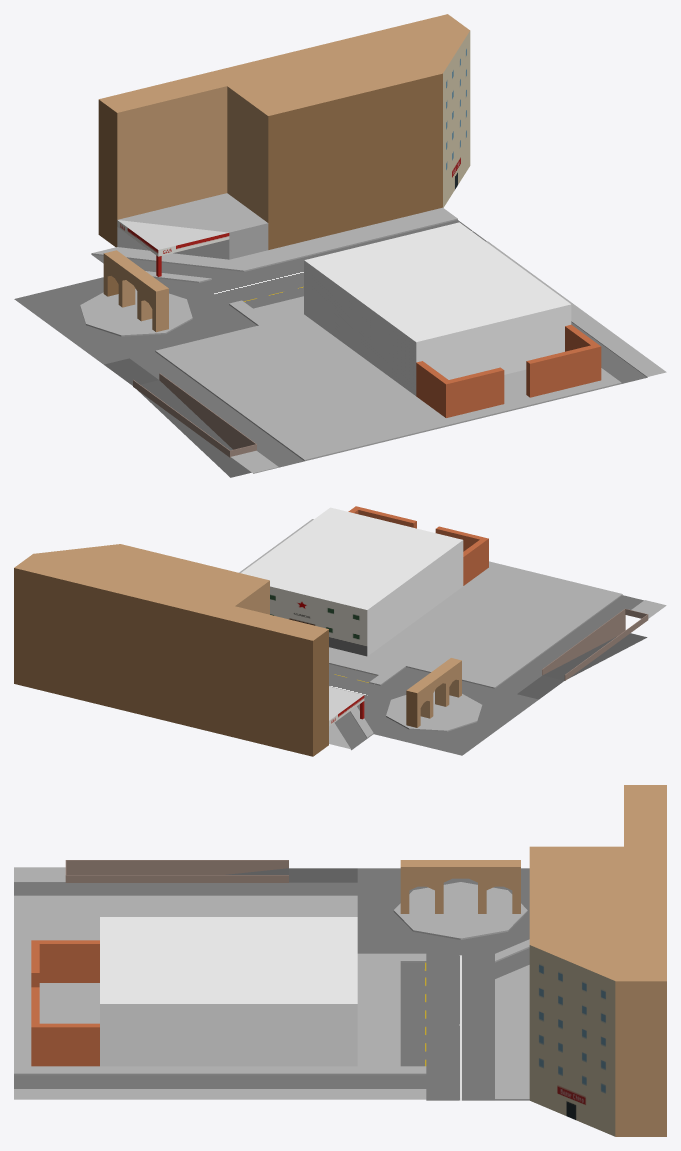
Rendered from arch.glb.
3 renders of one model, top to bottom at view 1: azimuth 30°, elevation 25°; view 2: azimuth 150°, elevation 25°; view 3: azimuth 270°, elevation 25°, orthographic. The views are drawn at different scales.
Parts seen in each view (by area): view 1: Flats, Police, Sidewalk, Gas, Roundabout, Secret, Garage, Avenue, Arch, Legion, Island, GasBanner (+1 smaller); view 2: Flats, Police, Sidewalk, Roundabout, Garage, Arch, Island, Secret, Parking, Gas, GasBanner, Avenue; view 3: Flats, Police, Sidewalk, Legion, Avenue, Parking, Roundabout, Secret, Garage, Gas, Island, Arch (+1 smaller).
Boxes of the visible parts, left/top/right/bottom form: Flats: left=98, top=14, right=470, bottom=249; Police: left=304, top=222, right=571, bottom=395; Sidewalk: left=130, top=314, right=621, bottom=467; Gas: left=91, top=193, right=457, bottom=282; Roundabout: left=14, top=263, right=256, bottom=364; Secret: left=416, top=324, right=601, bottom=417; Garage: left=104, top=358, right=256, bottom=477; Avenue: left=199, top=220, right=486, bottom=304; Arch: left=103, top=250, right=168, bottom=332; Legion: left=486, top=241, right=666, bottom=383; Island: left=80, top=289, right=192, bottom=336; GasBanner: left=117, top=220, right=229, bottom=256; Flats: left=14, top=544, right=328, bottom=756; Police: left=241, top=507, right=463, bottom=656; Sidewalk: left=367, top=561, right=643, bottom=693; Roundabout: left=334, top=667, right=538, bottom=755; Garage: left=517, top=608, right=648, bottom=699; Arch: left=406, top=658, right=461, bottom=727; Island: left=386, top=691, right=482, bottom=731; Secret: left=348, top=506, right=488, bottom=585; Parking: left=329, top=647, right=405, bottom=685; Gas: left=329, top=706, right=373, bottom=750; GasBanner: left=329, top=686, right=364, bottom=726; Avenue: left=329, top=673, right=379, bottom=697; Flats: left=529, top=785, right=666, bottom=1136; Police: left=100, top=917, right=357, bottom=1066; Sidewalk: left=14, top=882, right=357, bottom=1075; Legion: left=14, top=1075, right=426, bottom=1099; Avenue: left=426, top=955, right=494, bottom=1100; Parking: left=357, top=953, right=426, bottom=1075; Roundabout: left=357, top=868, right=529, bottom=955; Secret: left=31, top=940, right=99, bottom=1066; Garage: left=65, top=860, right=357, bottom=882; Gas: left=495, top=939, right=529, bottom=1100; Island: left=393, top=882, right=527, bottom=939; Arch: left=400, top=860, right=520, bottom=913.
Size of what is drawn, in the model's own units: 74.1 by 23 by 76.
25 materials, 5 textured.
